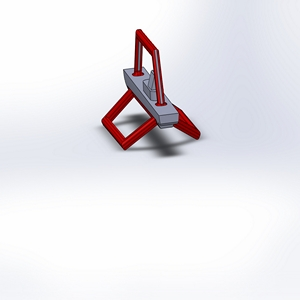submarine: (84, 23, 226, 171)
